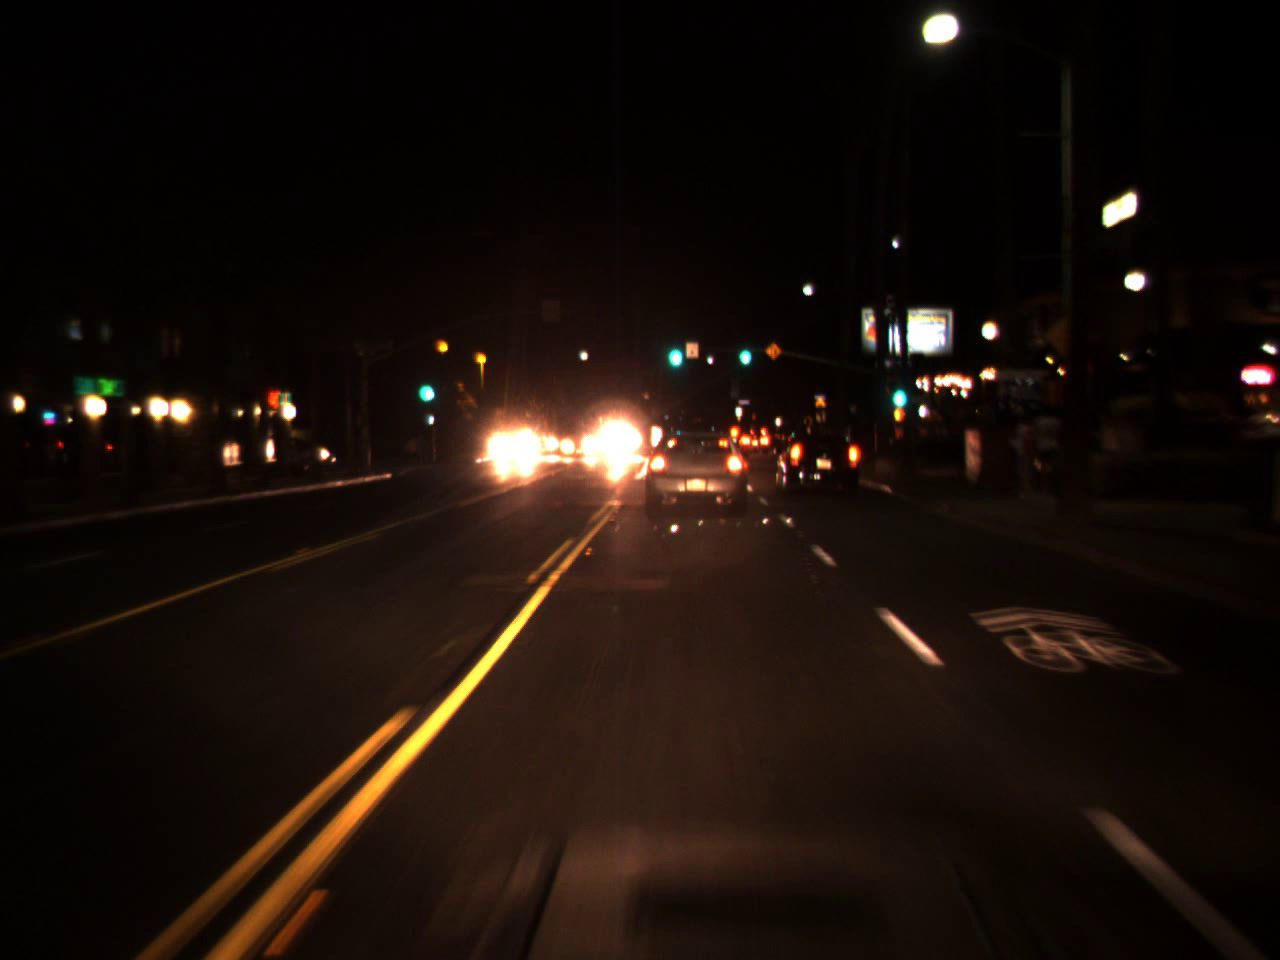go: (884, 366, 911, 414), (662, 326, 685, 374), (414, 363, 435, 408), (735, 333, 753, 369)
